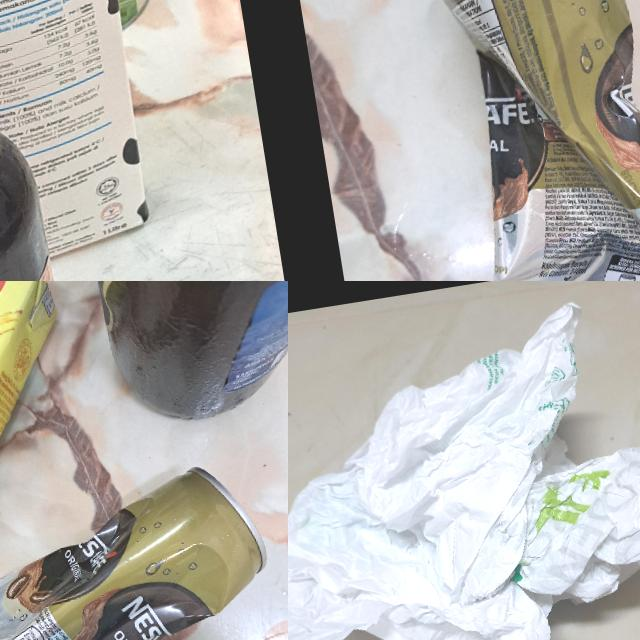caixinha: (0, 0, 154, 277), (0, 281, 91, 571)
garrafa de vidro: (0, 0, 63, 281)
lata: (418, 0, 640, 281), (0, 455, 288, 640), (85, 281, 288, 430)
sacola plástica: (288, 285, 640, 640)
